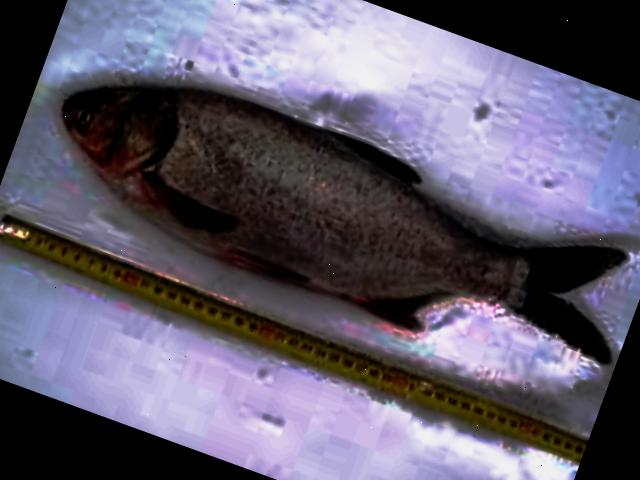Healthy Fish: (62, 84, 618, 359)
